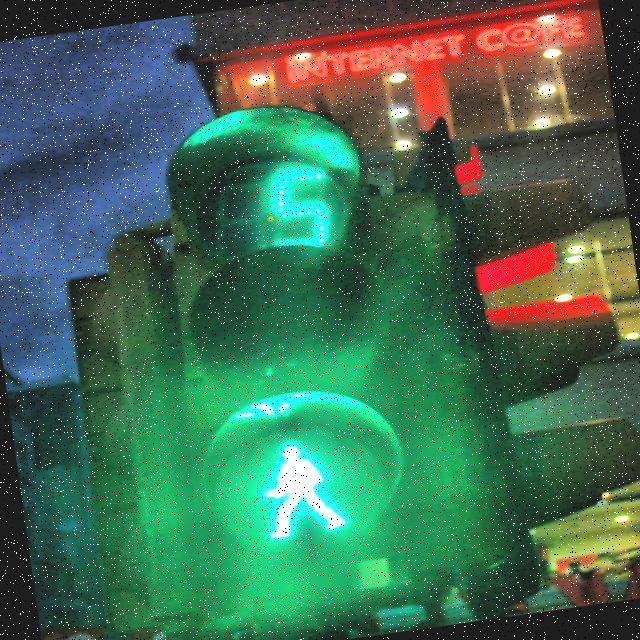green_light: (252, 433, 351, 543)
